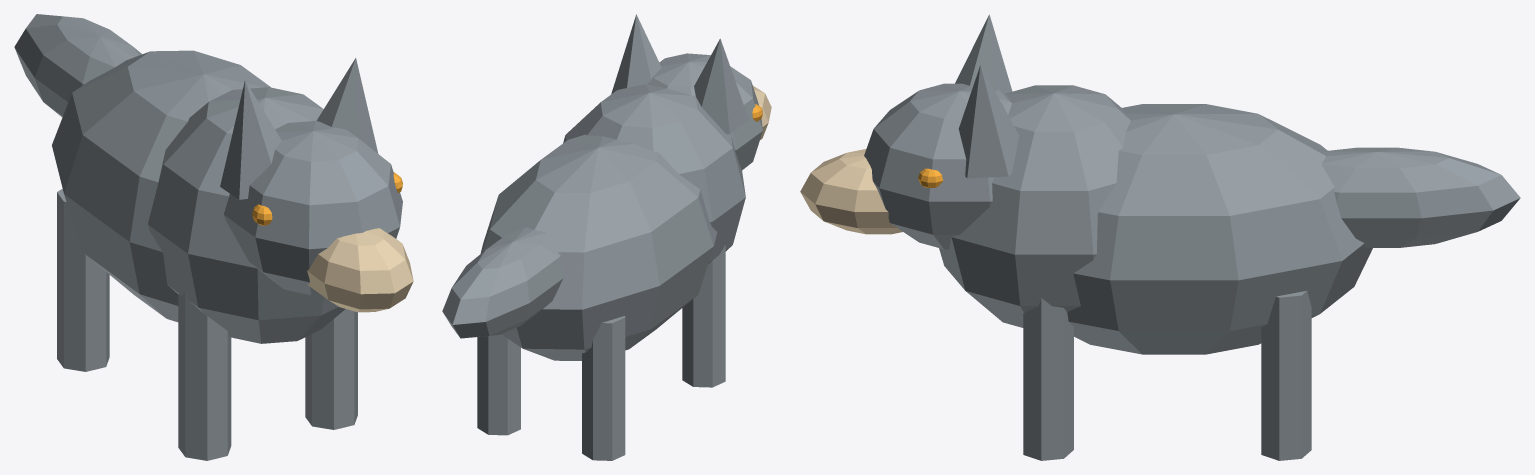
The model's file is atlas_wolf.glb.
3 renders of one model, left to right at view 1: azimuth 30°, elevation 25°; view 2: azimuth 150°, elevation 25°; view 3: azimuth 270°, elevation 25°, orthographic. The views are drawn at different scales.
Visible parts, largest first — view 1: Wolf_Body, Wolf_Shoulder, Wolf_Head, Wolf_Leg, Wolf_Tail, Wolf_Leg.001, Wolf_Snout, Wolf_Leg.002, Wolf_Ear, Wolf_Ear.001; view 2: Wolf_Body, Wolf_Shoulder, Wolf_Tail, Wolf_Leg.001, Wolf_Leg, Wolf_Leg.003, Wolf_Head, Wolf_Ear, Wolf_Ear.001, Wolf_Snout; view 3: Wolf_Body, Wolf_Shoulder, Wolf_Tail, Wolf_Head, Wolf_Leg.003, Wolf_Leg.002, Wolf_Snout, Wolf_Ear.001, Wolf_Ear.
Boxes of the visible parts, x1,y1,x2,y2 form: Wolf_Body: (52, 50, 270, 322); Wolf_Shoulder: (148, 87, 345, 343); Wolf_Head: (224, 121, 402, 295); Wolf_Leg: (178, 291, 231, 460); Wolf_Tail: (14, 14, 141, 117); Wolf_Leg.001: (57, 189, 109, 371); Wolf_Snout: (307, 228, 413, 312); Wolf_Leg.002: (305, 309, 357, 429); Wolf_Ear: (220, 80, 281, 199); Wolf_Ear.001: (316, 58, 378, 153); Wolf_Body: (480, 134, 717, 360); Wolf_Shoulder: (563, 84, 745, 263); Wolf_Tail: (442, 227, 563, 338); Wolf_Leg.001: (582, 316, 625, 460); Wolf_Leg: (682, 245, 725, 387); Wolf_Leg.003: (477, 334, 520, 435); Wolf_Head: (647, 53, 762, 170); Wolf_Ear: (694, 38, 748, 134); Wolf_Ear.001: (611, 14, 661, 94); Wolf_Snout: (753, 86, 771, 139); Wolf_Body: (1067, 104, 1372, 354); Wolf_Shoulder: (939, 85, 1130, 327); Wolf_Tail: (1321, 147, 1520, 247); Wolf_Head: (864, 83, 1011, 249); Wolf_Leg.003: (1261, 291, 1311, 460); Wolf_Leg.002: (1023, 298, 1073, 460); Wolf_Snout: (800, 149, 902, 234); Wolf_Ear.001: (958, 65, 1019, 178); Wolf_Ear: (955, 14, 1012, 93).
Size of the model in its own units: 1.05 by 1.82 by 3.12.
